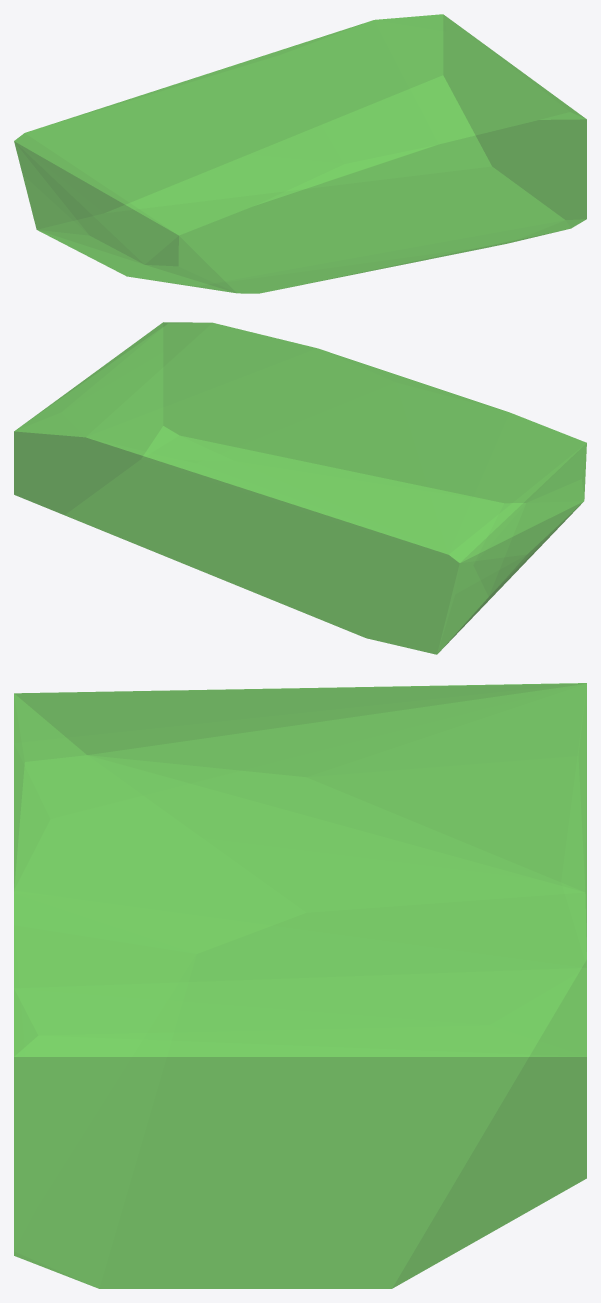
3 renders of one model, top to bottom at view 1: azimuth 30°, elevation 25°; view 2: azimuth 150°, elevation 25°; view 3: azimuth 270°, elevation 25°, orthographic. The views are drawn at different scales.
Parts seen in each view (by area): view 1: Shape_IndexedFaceSet.014_Shape_IndexedFaceSet.15996; view 2: Shape_IndexedFaceSet.014_Shape_IndexedFaceSet.15996; view 3: Shape_IndexedFaceSet.014_Shape_IndexedFaceSet.15996.
Part boxes in pixels (box(x1,y1,x2,y2)): Shape_IndexedFaceSet.014_Shape_IndexedFaceSet.15996: box(14, 14, 586, 293); Shape_IndexedFaceSet.014_Shape_IndexedFaceSet.15996: box(14, 322, 586, 654); Shape_IndexedFaceSet.014_Shape_IndexedFaceSet.15996: box(14, 683, 586, 1288).
Bounding box in the file's own units: 0.28 × 0.0795 × 0.1624.
